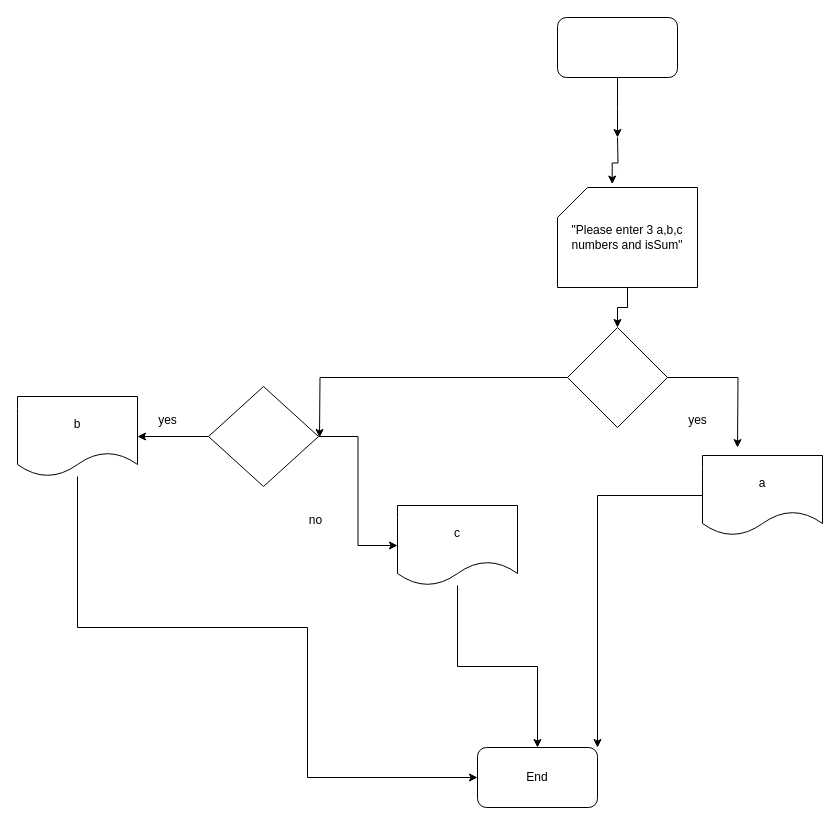
Image size: 840x825. Some labels were removed from this diagram. The shapes that lost their labels are listed below. From the top down, each one's box as (x1, y1, x2, y2) in pixels, then its label:
(556, 16, 678, 78): Start
(566, 326, 668, 428): a>b and a>c
(208, 386, 318, 486): b>c
